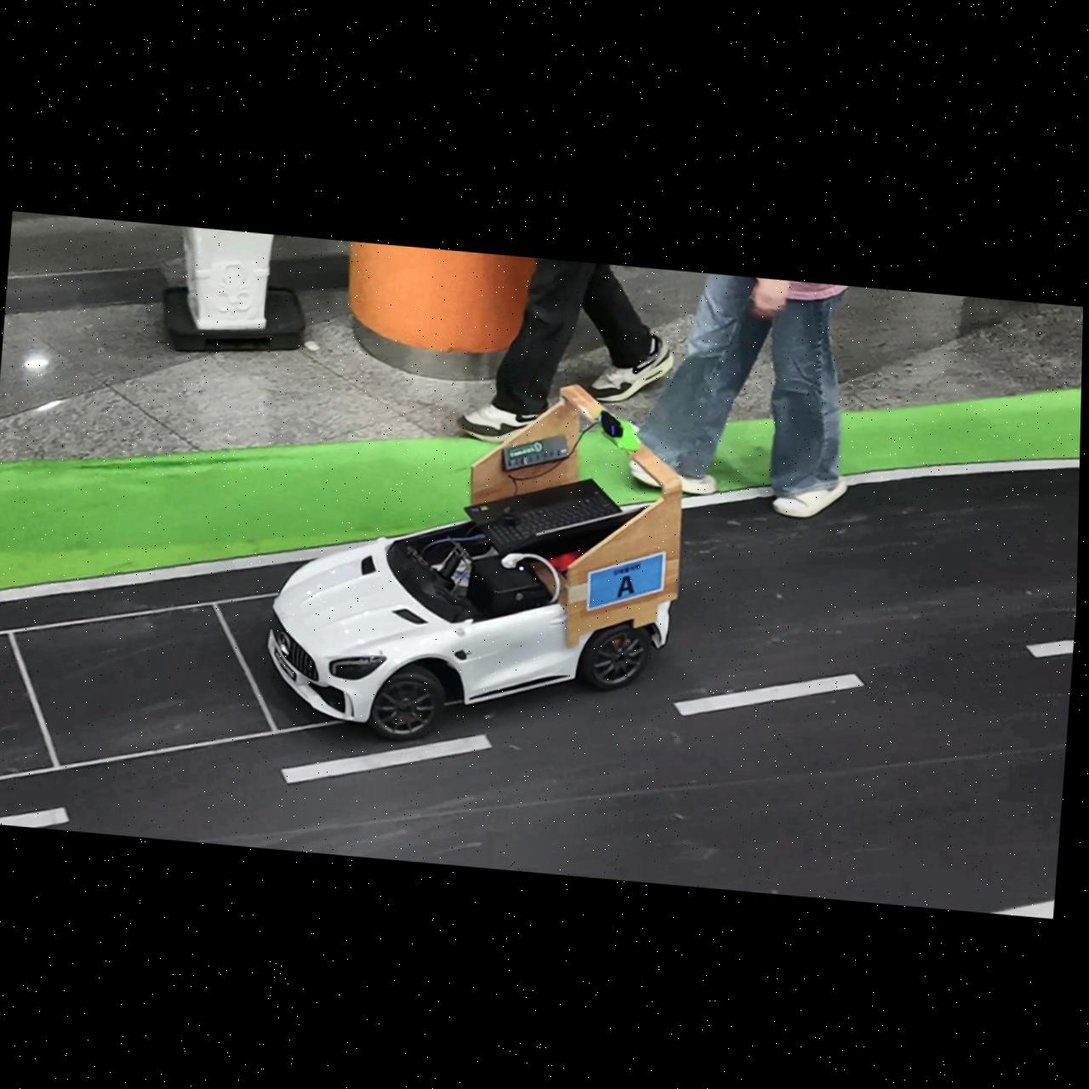broken_line: (280, 734, 491, 784), (673, 673, 864, 716), (0, 808, 69, 827), (1025, 640, 1073, 657)
